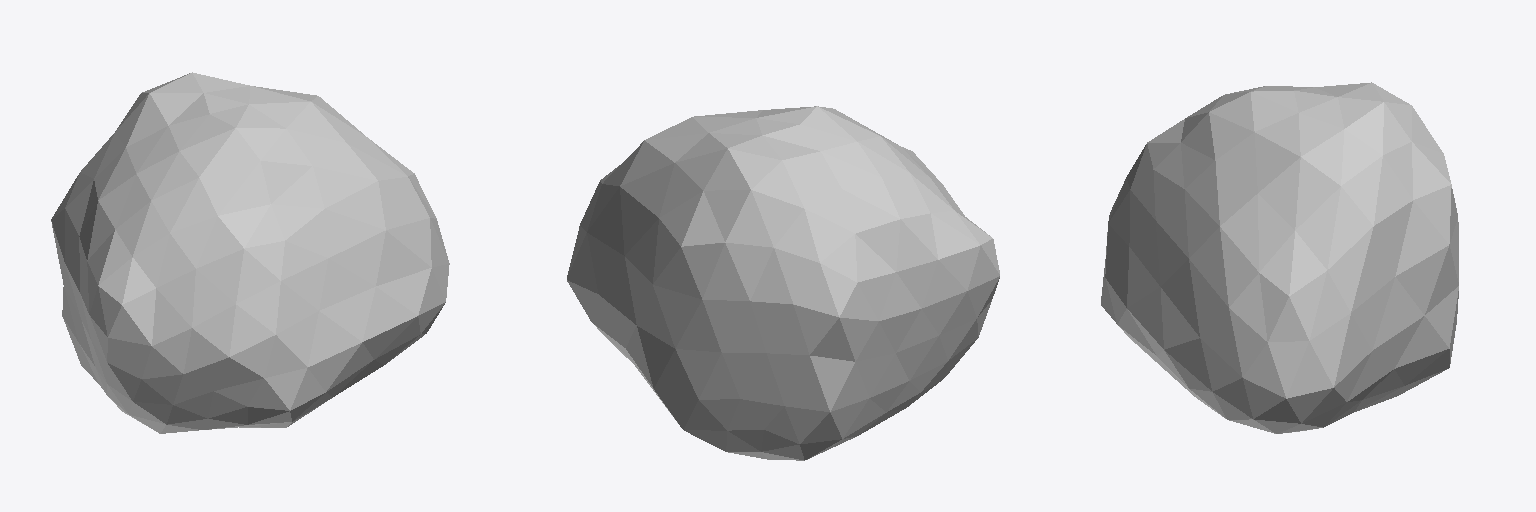
Rendered from Rock_3_R_Color1.obj.
3 views of the same model, side by side, from view 1: azimuth 30°, elevation 25°; view 2: azimuth 150°, elevation 25°; view 3: azimuth 270°, elevation 25° (orthographic).
Parts seen in each view (by area): view 1: Rock_3_R_Color1; view 2: Rock_3_R_Color1; view 3: Rock_3_R_Color1.
Part boxes in pixels (x1,y1,x2,y2): Rock_3_R_Color1: (51,72,449,433); Rock_3_R_Color1: (567,106,999,460); Rock_3_R_Color1: (1101,82,1458,433).
Bounding box in the file's own units: 5.16 × 3.85 × 4.21.